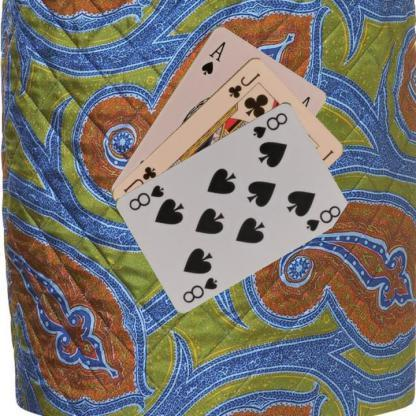8s: (250, 109, 289, 140), (180, 274, 220, 304)
As: (198, 38, 227, 76)
Jc: (225, 70, 262, 100)
